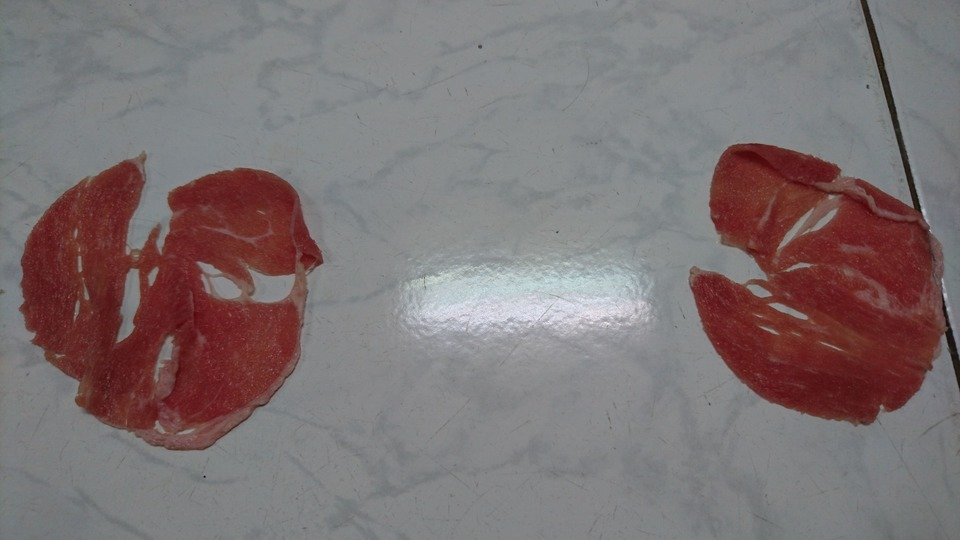restructured meat: (25, 153, 325, 452), (679, 131, 952, 443)
